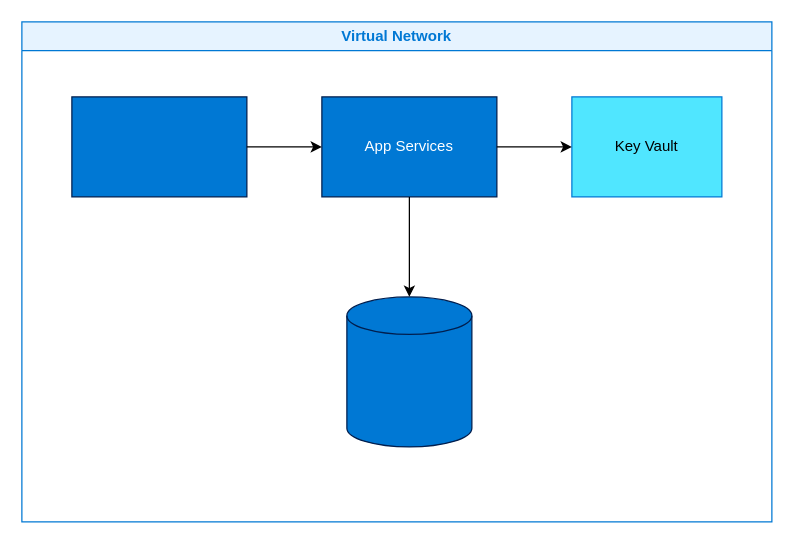
Image size: 794x544. Some labels were removed from this diagram. Here are the shapes that lost their labels. From the top down, the centre of each, then its label:
At (x=159, y=146): "Application Gateway".
At (x=409, y=371): "Azure SQL Database".
